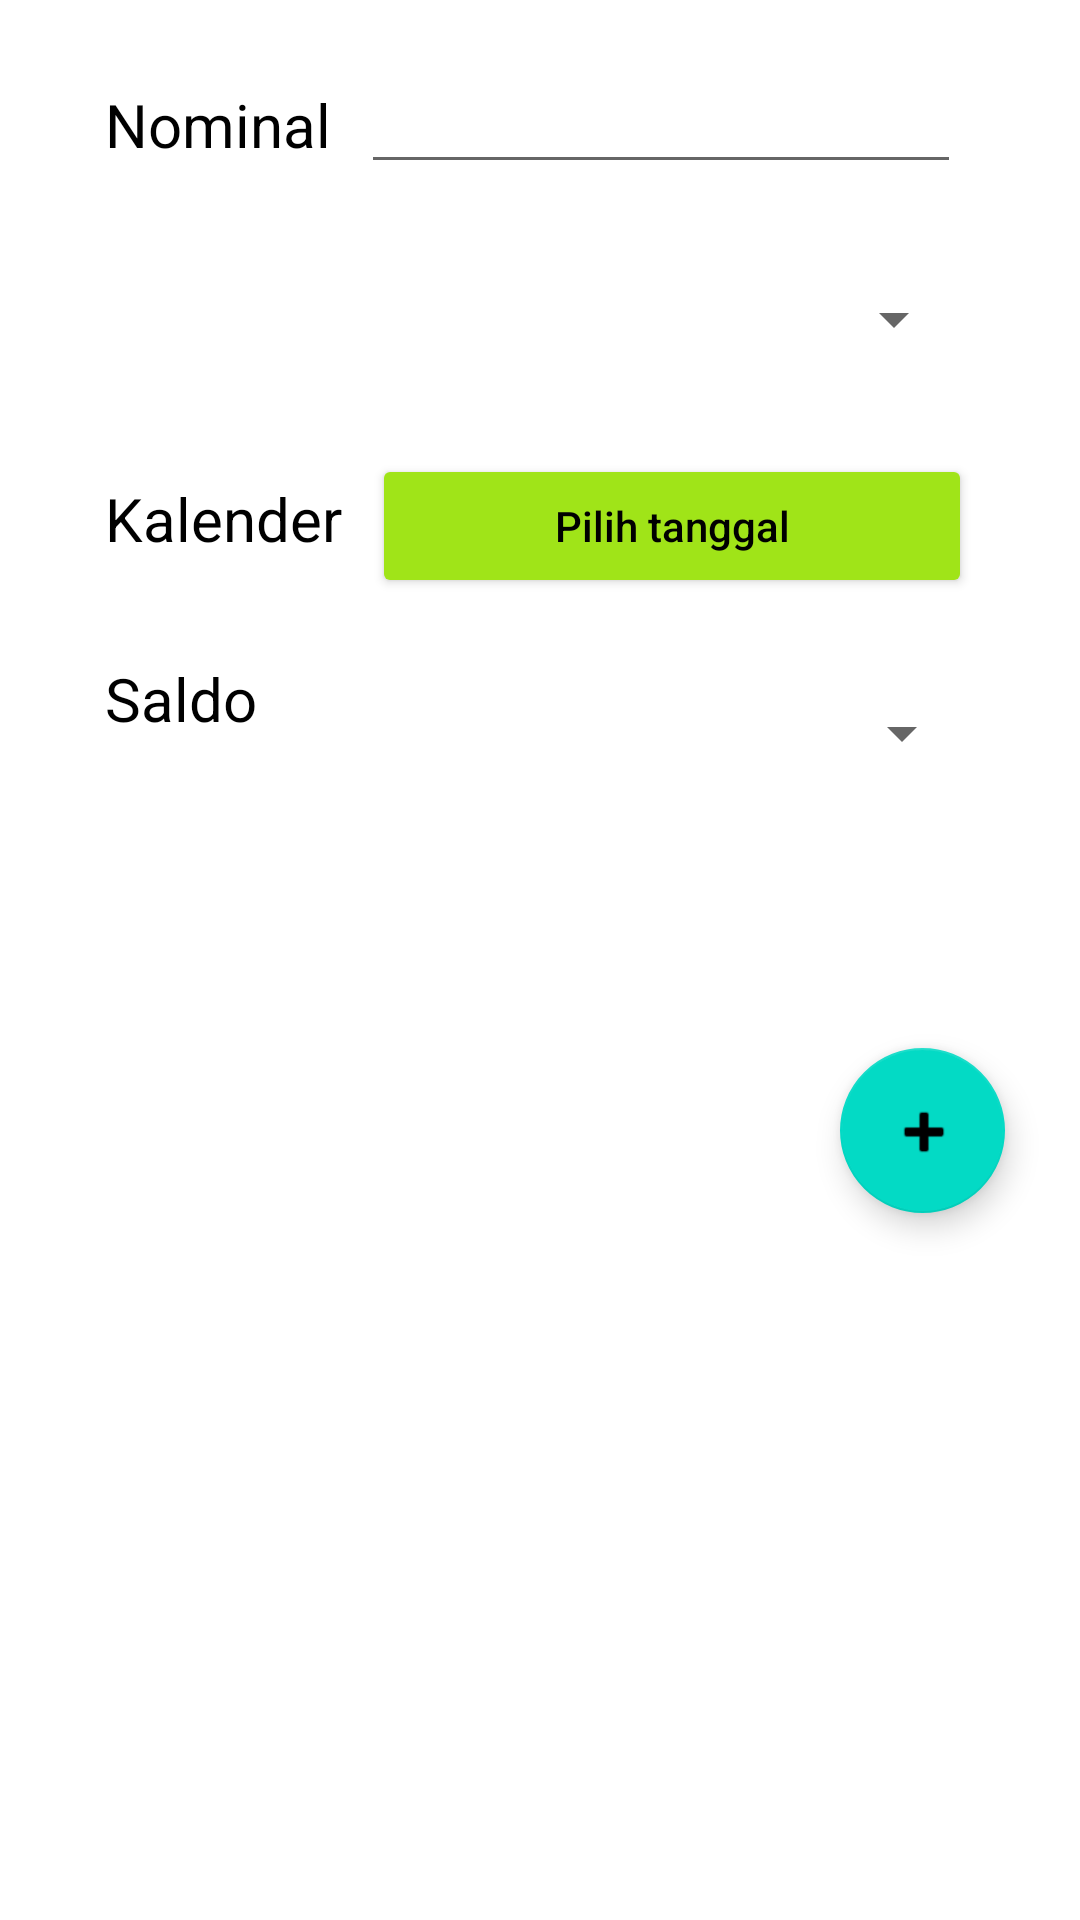

Screen size 1080×1920. Icon name, then its center in pixels as [x,y]:
add: [922,1130]
